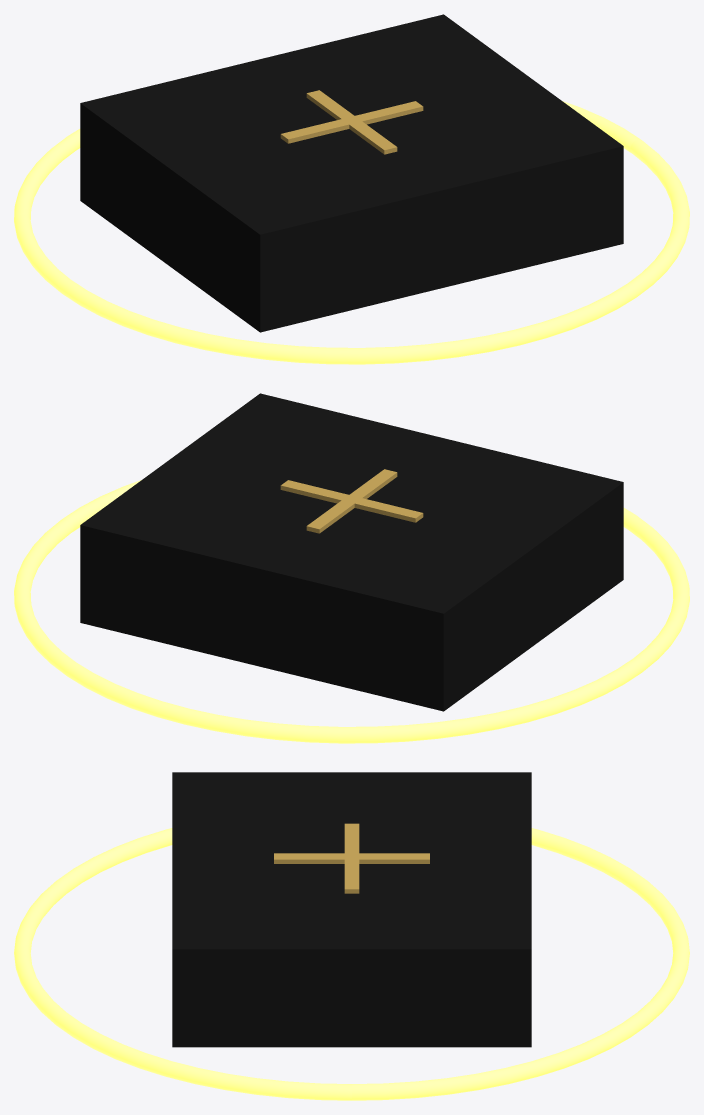
Rendered from ysl-couture-palette.glb.
3 renders of one model, top to bottom at view 1: azimuth 30°, elevation 25°; view 2: azimuth 150°, elevation 25°; view 3: azimuth 270°, elevation 25°, orthographic.
Visible parts, largest first — view 1: LidShell, Base, Halo, EmblemBar, EmblemStem; view 2: LidShell, Base, Halo, EmblemBar, EmblemStem; view 3: LidShell, Base, Halo, EmblemStem, EmblemBar.
Boxes of the visible parts, left/top/right/bottom form: LidShell: left=80, top=14, right=623, bottom=267; Base: left=80, top=136, right=623, bottom=332; Halo: left=14, top=101, right=689, bottom=364; EmblemBar: left=280, top=101, right=423, bottom=143; EmblemStem: left=306, top=90, right=397, bottom=154; LidShell: left=80, top=393, right=623, bottom=646; Base: left=80, top=515, right=623, bottom=711; Halo: left=14, top=480, right=689, bottom=743; EmblemBar: left=280, top=480, right=423, bottom=522; EmblemStem: left=306, top=469, right=397, bottom=533; LidShell: left=172, top=772, right=531, bottom=981; Base: left=172, top=982, right=531, bottom=1047; Halo: left=14, top=828, right=689, bottom=1100; EmblemStem: left=274, top=853, right=429, bottom=863; EmblemBar: left=344, top=823, right=359, bottom=893.
Size of the model in its own units: 0.1128 by 0.0192 by 0.1128.
